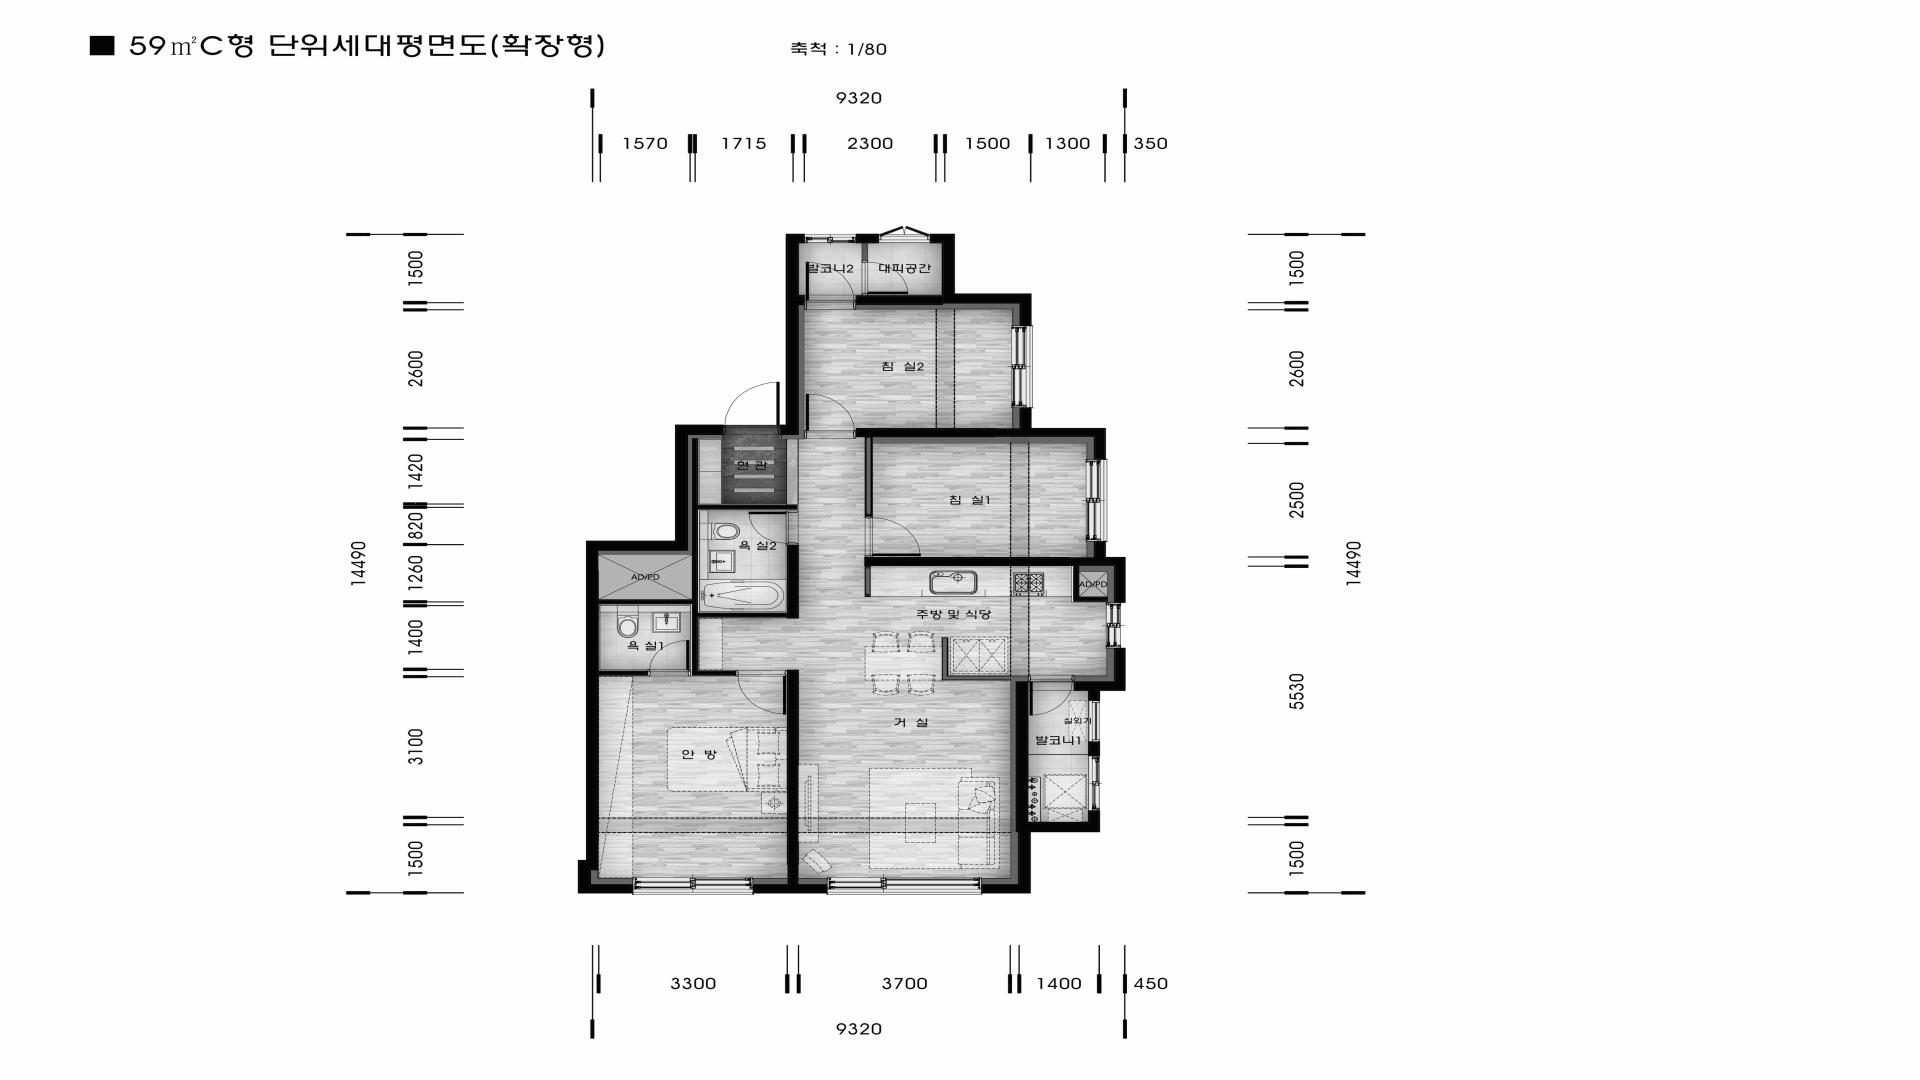door: (723, 381, 781, 435), (804, 261, 856, 310), (803, 393, 856, 439), (736, 670, 787, 715), (864, 517, 920, 556), (1029, 675, 1073, 716), (749, 510, 798, 545), (647, 641, 692, 676), (862, 261, 909, 295)
wall: (578, 425, 723, 893), (599, 438, 798, 675), (981, 811, 1100, 893), (930, 233, 1031, 326), (781, 233, 804, 435), (1019, 407, 1106, 459), (1069, 541, 1126, 603), (942, 637, 1011, 680), (1073, 647, 1125, 700), (787, 670, 799, 885), (864, 556, 1069, 566), (1015, 682, 1029, 822), (856, 429, 1019, 438), (1073, 566, 1108, 601), (787, 545, 799, 618), (856, 295, 943, 305), (753, 884, 828, 894), (865, 438, 873, 517), (856, 233, 878, 243), (599, 671, 649, 675), (1088, 741, 1100, 756), (865, 566, 870, 597), (862, 243, 868, 261)
window: (827, 877, 981, 894), (633, 877, 753, 894), (1085, 459, 1108, 541), (1011, 326, 1033, 407), (878, 225, 930, 243), (1105, 603, 1121, 647), (1089, 756, 1100, 811), (1088, 700, 1100, 741), (804, 235, 856, 243)
